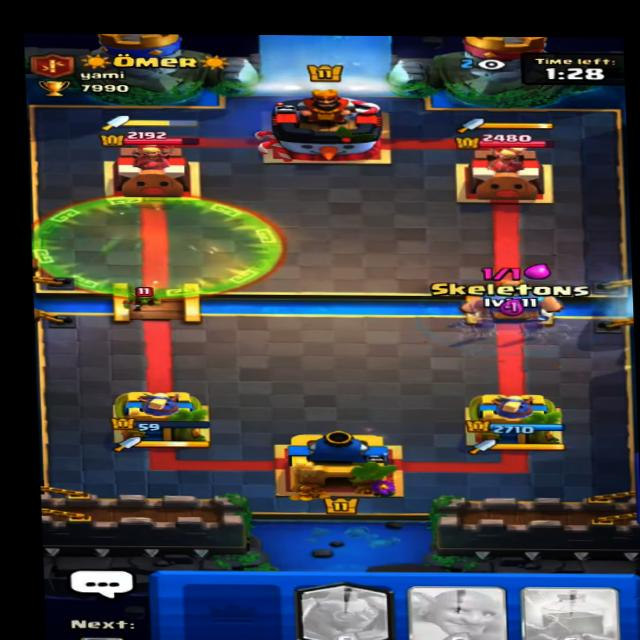Goblin: (122, 282, 172, 312)
Goblincurse: (30, 191, 283, 302)
